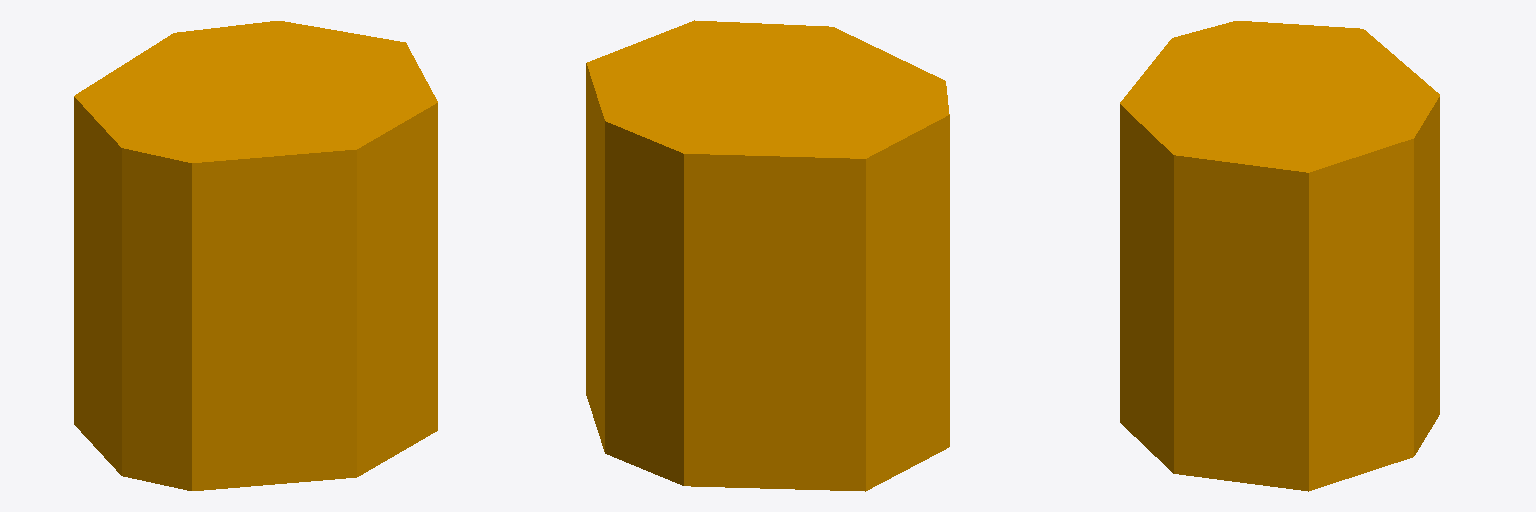
The robot description file, URDF, robot "object":
<?xml version="1.0"?>
<robot name="object">
  <link name="object">
    <visual>
      <origin xyz="0 0 0"/>
      <geometry>
        <mesh filename="meshes/generated/col_024.obj" scale="0.03 0.03 0.03"/>
      </geometry>
    </visual>
    <collision>
      <origin xyz="0 0 0"/>
      <geometry>
        <mesh filename="meshes/generated/col_024.obj" scale="0.03 0.03 0.03"/>
      </geometry>
    </collision>
    <inertial>
      <density value="1000.0"/>
    </inertial>
  </link>
</robot>

--- Facts derived from the render (not from the file) ---
Views: 3 orthographic renders of the robot side by side, from view 1: azimuth 30°, elevation 25°; view 2: azimuth 150°, elevation 25°; view 3: azimuth 270°, elevation 25°.
Model object with 1 links and 0 joints (none), rooted at object, posed every joint at zero.
Links seen in each view (by area): view 1: object; view 2: object; view 3: object.
Boxes of the visible links, x1,y1,x2,y2 form: object: [74, 21, 437, 490]; object: [586, 20, 949, 491]; object: [1120, 21, 1439, 491].
Size in the robot's own frame: 0.0615 by 0.0548 by 0.06 metres.
1 mesh visuals loaded from 1 distinct referenced files (1 OBJ).
